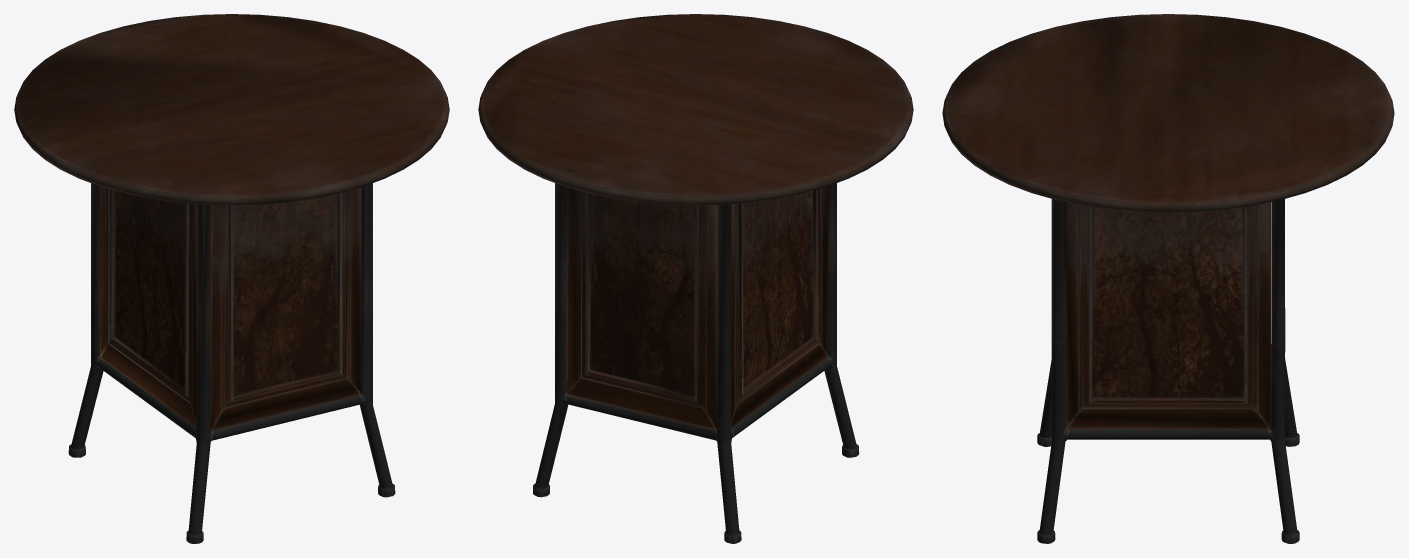
File: round_wooden_table_02.glb
The picture shows the model from 3 angles, left to right: view 1: azimuth 30°, elevation 25°; view 2: azimuth 150°, elevation 25°; view 3: azimuth 270°, elevation 25°; orthographic projection. The views are drawn at different scales.
Visible parts, largest first — view 1: round_wooden_table_02; view 2: round_wooden_table_02; view 3: round_wooden_table_02.
Boxes of the visible parts, x1,y1,x2,y2 form: round_wooden_table_02: [14, 14, 449, 543]; round_wooden_table_02: [478, 14, 913, 543]; round_wooden_table_02: [942, 14, 1394, 543].
Size of the model in its own units: 0.7962 by 0.746 by 0.7962.
1 material, 1 textured.
